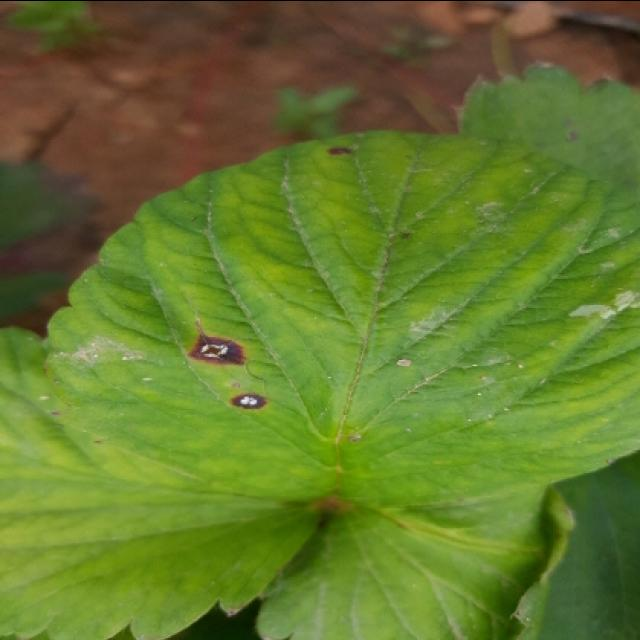Leaf Spot: (41, 129, 638, 507), (454, 57, 638, 202)
